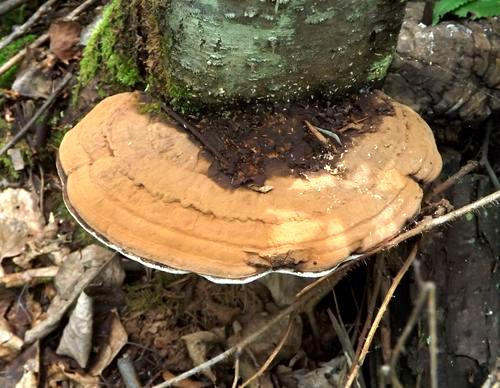Ganoderma - Fruit Body: (56, 89, 440, 284)
